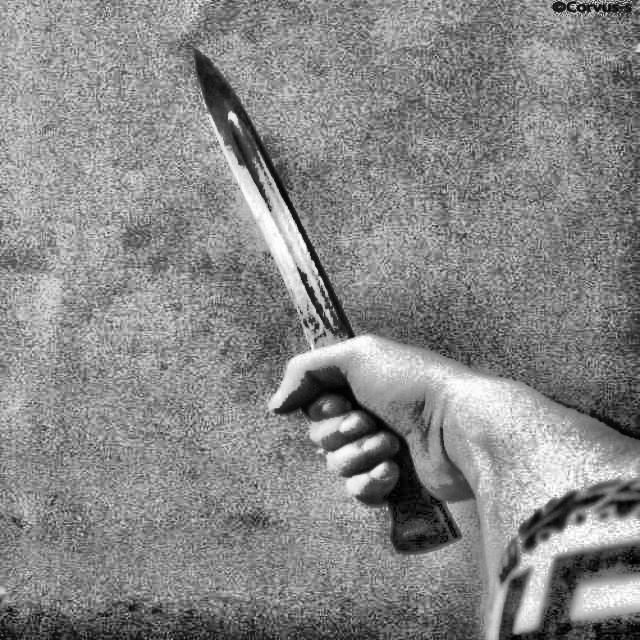knife: (195, 52, 460, 550)
